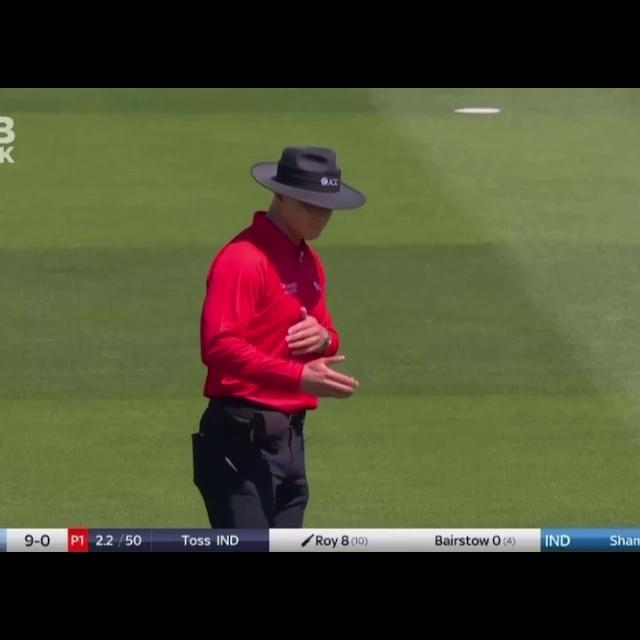umpire: (170, 136, 396, 535)
